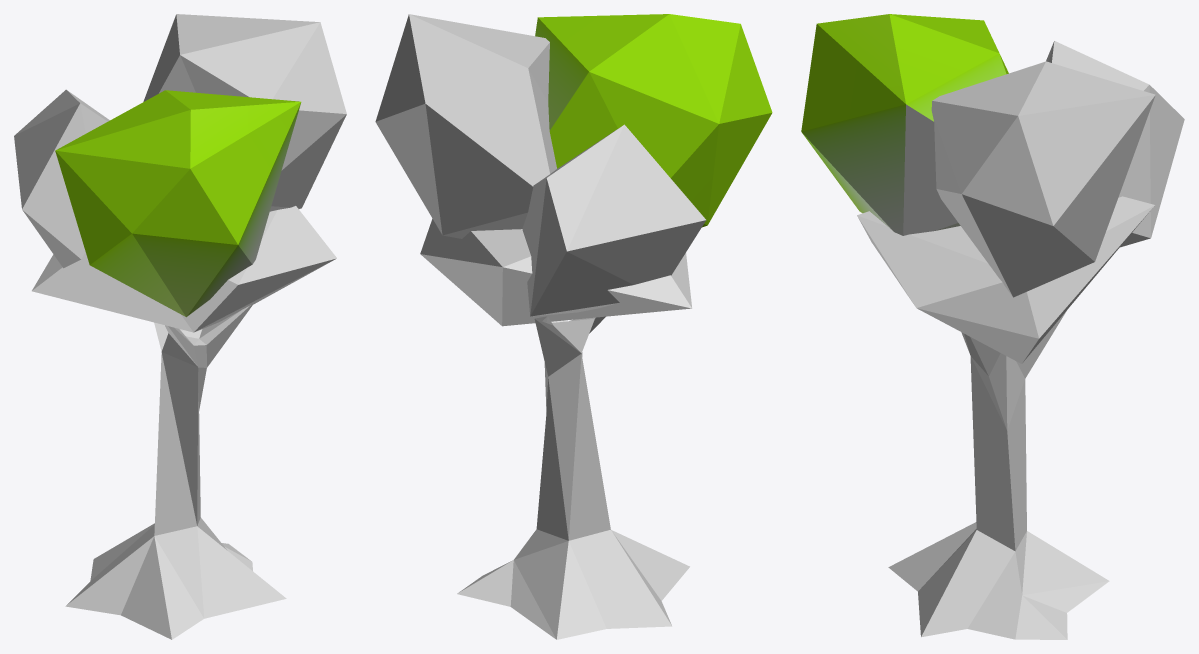
Rendered from tree1_LOD1.fbx.
The picture shows the model from 3 angles, left to right: view 1: azimuth 30°, elevation 25°; view 2: azimuth 150°, elevation 25°; view 3: azimuth 270°, elevation 25°; orthographic projection. The views are drawn at different scales.
Visible parts, largest first — view 1: Leaves1, Trunk, Leaves3, Leaves4, Leaves2; view 2: Leaves1, Leaves3, Trunk, Leaves2, Leaves4; view 3: Leaves3, Leaves1, Trunk, Leaves4, Leaves2.
Part boxes in pixels (<box>): Leaves1: <box>55,90,301,317</box>; Trunk: <box>65,304,286,639</box>; Leaves3: <box>143,14,346,211</box>; Leaves4: <box>32,206,336,332</box>; Leaves2: <box>14,89,109,268</box>; Leaves1: <box>535,14,772,227</box>; Leaves3: <box>375,14,556,238</box>; Trunk: <box>457,316,689,639</box>; Leaves2: <box>522,124,706,316</box>; Leaves4: <box>420,218,692,326</box>; Leaves3: <box>931,61,1155,297</box>; Leaves1: <box>801,14,1008,235</box>; Trunk: <box>888,311,1109,639</box>; Leaves4: <box>857,196,1154,363</box>; Leaves2: <box>1046,41,1184,247</box>.
Bounding box in the file's own units: 4.37 × 7.16 × 4.4.
